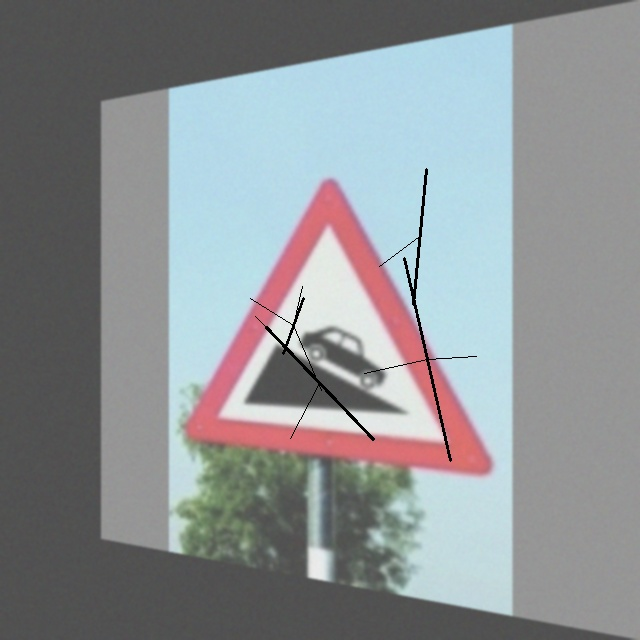Steep_Descent: (193, 169, 478, 478)
